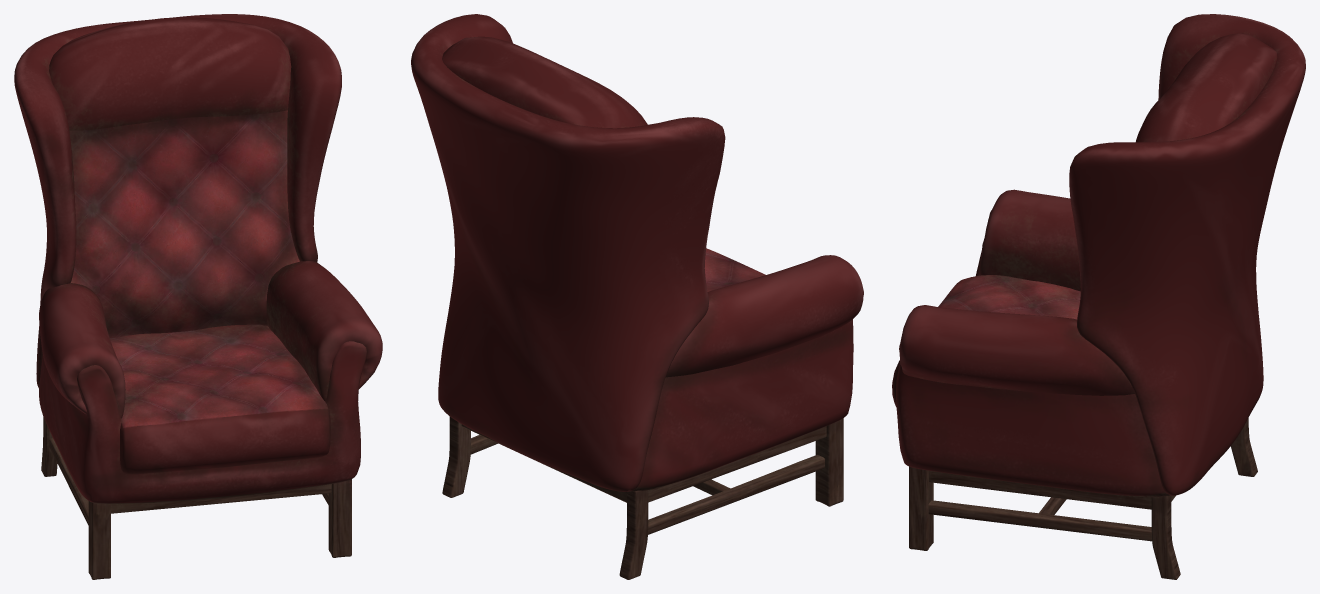
The picture shows the model from 3 angles, left to right: view 1: azimuth 30°, elevation 25°; view 2: azimuth 150°, elevation 25°; view 3: azimuth 270°, elevation 25°; orthographic projection. The views are drawn at different scales.
Visible parts, largest first — view 1: geo_Armchair; view 2: geo_Armchair; view 3: geo_Armchair.
Part boxes in pixels (x1,y1,x2,y2): geo_Armchair: (14,14,382,579); geo_Armchair: (411,14,863,579); geo_Armchair: (892,14,1305,579).
Bounding box in the file's own units: 123 × 156 × 126.
1 material, 1 textured.
